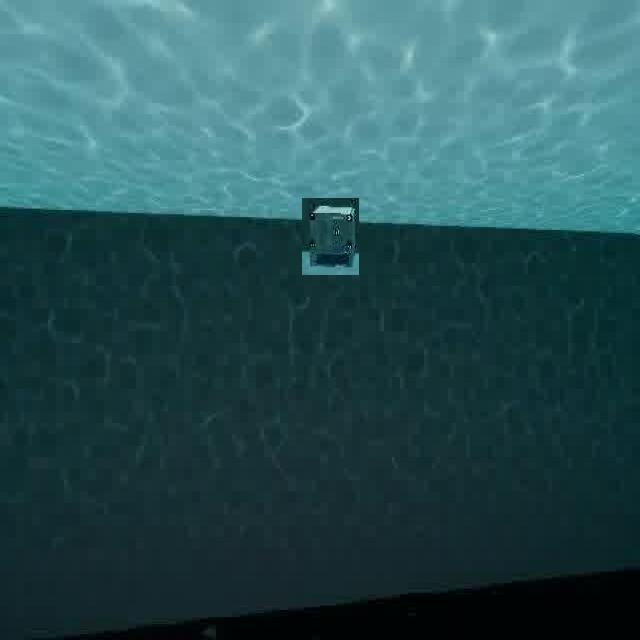Docking Station: (301, 198, 359, 276)
